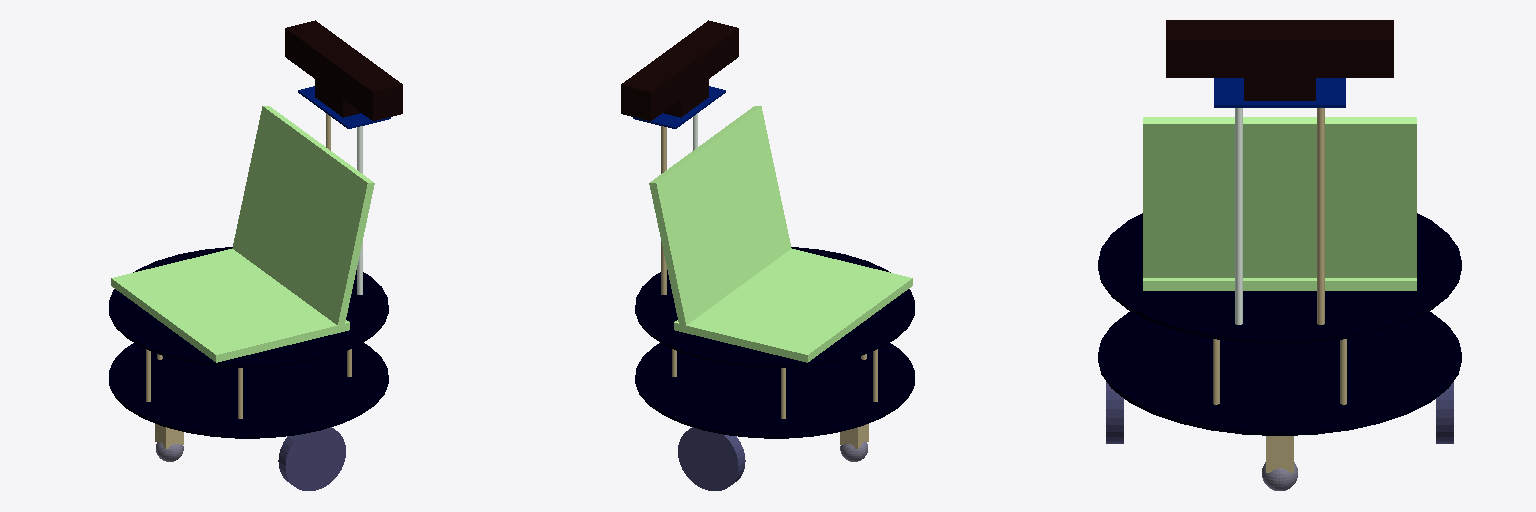
The robot description file, URDF, robot "tp_robot":
<?xml version="1.0"?>
	<robot name = "tp_robot">
		<link name = "base_underneath" >
			<visual>
				<geometry>
					<cylinder length="0.005" radius="0.2" />
				</geometry>
				<material name = "black">
					<color rgba = "0 0 0.118 1" />
				</material>
			</visual>	
		</link>
		
		<link name = "base_up_robot">
			<visual>
				<geometry>
					<cylinder length="0.005" radius="0.2" />
				</geometry>
				<material name = "black"/>
			</visual>
		</link>
		
		<link name = "base_laser">
			<visual>
				<geometry>
					<box size="0.05 0.25 0.046" />
				</geometry>
				<material name = "blackest">
					<color rgba = "0.12 0.05 0.05 1" />
				</material>
			</visual>
			<!--collision>
				<geometry>
					<box size="0.2 0.04 0.024" />
				</geometry>
			</collision-->
			<inertial>
	      	<mass value="0.0001" />
	     	 	<origin xyz="0 0 0" />
	      	<inertia ixx="0.0001" ixy="0.0" ixz="0.0"
		       			iyy="0.0001" iyz="0.0" 
		       			izz="0.0001" />
	  		</inertial>
		</link>
		
		<link name = "bott_kinect">
			<visual>
				<geometry>
					<box size="0.05 0.08 0.03" />
				</geometry>
				<material name = "blackest">
					<color rgba = "0.12 0.05 0.05 1" />
				</material>
			</visual>
		</link>
		
		<link name = "rect_bott">
			<visual>
				<geometry>
					<box size="0.07 0.145 0.003" />
				</geometry>
				<material name = "blue">
					<color rgba = "0.0118 0.1373 0.4863 1" />
				</material>
			</visual>
		</link>
		
		<link name = "left_wheel">
			<visual>
				<geometry>
					<cylinder length = "0.02" radius = "0.05" />
				</geometry>
				<origin rpy = "0 1.5708 1.5708" xyz = "0 0 0" />
				<material name = "blue_dark">
					<color rgba="0.3333 0.3333 0.498 1"/>
				</material>
			</visual>		
		</link>
		
		
		<link name = "right_wheel" >
			<visual>
				<geometry>
					<cylinder length = "0.02" radius = "0.05" />
				</geometry>
				<origin rpy = "0 1.5708 1.5708" xyz = "0 0 0" />
				<material name = "blue_dark"/>
			</visual>
		</link>
		
		<link name = "wheel_front_of">
			<visual>
				<geometry>
					<sphere radius="0.02" />
				</geometry>
				<material name = "blue_white">
					<color rgba = "0.5333 0.525 0.6 1"/>
				</material>
			</visual>
		</link>
		
		<link name = "wheel_behind">
			<visual>
				<geometry>
					<sphere radius="0.02" />
				</geometry>
				<material name = "blue_white">
					<color rgba = "0.5333 0.525 0.6 1"/>
				</material>
			</visual>
		</link>
		
		<!--*******************************************************-->
		
		<link name = "ver_laser_left">
			<visual>
				<geometry>
					<cylinder length="0.282" radius="0.004" />
				</geometry>
				<material name = "white_gray">
					<color rgba="0.808 0.749 0.569 1"/>
				</material>
			</visual>
		</link>
		
		<link name = "ver_laser_right">
			<visual>
				<geometry>
					<cylinder length="0.282" radius="0.004" />
				</geometry>
				<material name = "white_gray">
					<color rgba = "0.95 1 0.95 1" />
				</material>
			</visual>
		</link>
		
		
		<link name = "ver1">
			<visual>
				<geometry>
					<cylinder length="0.111" radius="0.004" />
				</geometry>
				<material name = "white_gray"/>
			</visual>
		</link>
		
		<link name = "ver2">
			<visual>
				<geometry>
					<cylinder length="0.111" radius="0.004" />
				</geometry>
				<material name = "white_gray"/>
			</visual>
		</link>
		
		<link name = "ver3">
			<visual>
				<geometry>
					<cylinder length="0.111" radius="0.004" />
				</geometry>
				<material name = "white_gray"/>
			</visual>
		</link>
		
		<link name = "ver4">
			<visual>
				<geometry>
					<cylinder length="0.111" radius="0.004" />
				</geometry>
				<material name = "white_gray"/>
			</visual>
		</link>
		
		<link name = "ver5">
			<visual>
				<geometry>
					<cylinder length="0.111" radius="0.004" />
				</geometry>
				<material name = "white_gray"/>
			</visual>
		</link>
		
		<link name = "wheel_bar_front_of">
			<visual>
				<geometry>
					<box size="0.03 0.03 0.0721" />
				</geometry>
				<material name = "white_gray"/>
			</visual>
		</link>
		
		<link name = "wheel_bar_behind">
			<visual>
				<geometry>
					<box size="0.03 0.03 0.0721" />
				</geometry>
				<material name = "white_gray"/>
			</visual>
		</link>
		<!--*******************************************************-->
		
		<link name = "base_laptop">
			<visual>
				<geometry>
					<box size="0.22 0.3 0.012" />
				</geometry>
				<material name = "green">
					<color rgba="0.761 1 0.648 1"/>
				</material>
			</visual>
		</link>
		
		<link name = "screen_laptop">
			<visual>
				<geometry>
					<box size="0.22 0.3 0.012" />
				</geometry>
				<origin rpy = "0 1.8 0" xyz = "0 0 0" />
				<material name = "green"/>
			</visual>
		</link>
		
		<!--*******************************************************-->
		<!-- joints the elements-->
		<joint name = "base_to_laser" type = "fixed">
			<parent link = "base_underneath" />
			<child link = "base_laser" />
			<origin rpy = "0 0 0" xyz = "0.157 0 0.446" />
		</joint>
		
		<joint name = "base_to_ver_left" type = "fixed">
			<parent link = "base_underneath" />
			<child link = "ver_laser_left" />
			<origin rpy = "0 0 0" xyz = "0.157 0.045 0.252" />
		</joint>
		
		<joint name = "base_to_ver_right" type = "fixed">
			<parent link = "base_underneath" />
			<child link = "ver_laser_right" />
			<origin rpy = "0 0 0" xyz = "0.157 -0.045 0.252" />
		</joint>
		
		<joint name = "base_to_base_up" type = "fixed">
			<parent link = "base_underneath" />
			<child link = "base_up_robot" />
			<origin rpy = "0 0 0" xyz = "0 0 0.111" />
		</joint>
		
		<joint name = "base_to_left_wheel" type = "fixed">
			<parent link = "base_underneath" />
			<child link = "left_wheel" />
			<origin xyz = "0 -0.181 -0.05" />
		</joint>
		
		<joint name = "base_to_right_wheel" type = "fixed">
			<parent link = "base_underneath" />
			<child link = "right_wheel" />
			<origin xyz = "0 0.181 -0.05" />
		</joint>
		
		<joint name = "base_to_ver1" type = "fixed">
			<parent link = "base_underneath" />
			<child link = "ver1" />
			<origin xyz = "0.125 -0.07 0.0555" />
		</joint>
		
		<joint name = "base_to_ver2" type = "fixed">
			<parent link = "base_underneath" />
			<child link = "ver2" />
			<origin rpy = "0 0 0" xyz = "0.125 0.07 0.0555" />
		</joint>
		
		<joint name = "base_to_ver3" type = "fixed">
			<parent link = "base_underneath" />
			<child link = "ver3" />
			<origin rpy = "0 0 0" xyz = "-0.08 0.115 0.0555" />
		</joint>
		
		<joint name = "base_to_ver4" type = "fixed">
			<parent link = "base_underneath" />
			<child link = "ver4" />
			<origin rpy = "0 0 0" xyz = "-0.08 -0.115 0.0555" />
		</joint>
		
		<joint name = "base_to_ver5" type = "fixed">
			<parent link = "base_underneath" />
			<child link = "ver5" />
			<origin rpy = "0 0 0" xyz = "-0.165 0 0.0555" />
		</joint>
		
		<joint name = "base_to_wheel_bar_f" type = "fixed">
			<parent link = "base_underneath" />
			<child link = "wheel_bar_front_of" />
			<origin rpy = "0 0 0" xyz = "0.13 0 -0.03605" />
		</joint>
		
		<joint name = "base_to_wheel_bar_b" type = "fixed">
			<parent link = "base_underneath" />
			<child link = "wheel_bar_behind" />
			<origin rpy = "0 0 0" xyz = "-0.13 0 -0.03605" />
		</joint>
		
		<joint name = "base_to_wheel_b" type = "fixed">
			<parent link = "base_underneath" />
			<child link = "wheel_behind" />
			<origin rpy = "0 0 0" xyz = "-0.13 0 -0.08" />
		</joint>
		
		<joint name = "base_to_wheel_f" type = "fixed">
			<parent link = "base_underneath" />
			<child link = "wheel_front_of" />
			<origin rpy = "0 0 0" xyz = "0.13 0 -0.08" />
		</joint>
		
		<joint name = "base_to_base_lap" type = "fixed">
			<parent link = "base_underneath" />
			<child link = "base_laptop" />
			<origin rpy = "0 0 0" xyz = "-0.03 0 0.123" />
		</joint>
		
		<joint name = "base_laptop_to_screen" type = "fixed">
			<parent link = "base_laptop" />
			<child link = "screen_laptop" />
			<origin xyz = "0.12 0 0.11" />
		</joint>
		
		<joint name = "kinect_to_bott" type = "fixed">
			<parent link = "base_laser" />
			<child link = "bott_kinect" />
			<origin xyz = "0 0 -0.038" />
		</joint>
		
		<joint name = "base_to_rect_bott" type = "fixed">
			<parent link = "base_underneath" />
			<child link = "rect_bott" />
			<origin xyz = "0.157 0 0.393" />
		</joint>
	</robot>

--- Facts derived from the render (not from the file) ---
3 views of the same robot in one strip: view 1: azimuth 30°, elevation 25°; view 2: azimuth 150°, elevation 25°; view 3: azimuth 270°, elevation 25° (orthographic).
Robot: tp_robot — 20 links, 19 joints (19 fixed); root link base_underneath; default pose: all joints at 0.
Visible links, largest first — view 1: screen_laptop, base_underneath, base_laptop, base_up_robot, base_laser, left_wheel, rect_bott, bott_kinect; view 2: screen_laptop, base_underneath, base_laptop, base_up_robot, base_laser, right_wheel, rect_bott, bott_kinect; view 3: screen_laptop, base_underneath, base_up_robot, base_laser, base_laptop, rect_bott, ver_laser_left, ver_laser_right, bott_kinect, wheel_bar_front_of, left_wheel, right_wheel (+1 smaller).
Link boxes in pixels (x1,y1,x2,y2): screen_laptop: (232, 106, 374, 326); base_underneath: (109, 343, 388, 438); base_laptop: (111, 249, 349, 362); base_up_robot: (109, 247, 388, 367); base_laser: (285, 20, 402, 120); left_wheel: (278, 427, 345, 490); rect_bott: (298, 86, 390, 128); bott_kinect: (315, 79, 360, 117); screen_laptop: (649, 106, 791, 326); base_underneath: (635, 343, 914, 438); base_laptop: (674, 249, 912, 362); base_up_robot: (635, 247, 914, 367); base_laser: (621, 20, 738, 120); right_wheel: (678, 427, 745, 490); rect_bott: (633, 86, 725, 128); bott_kinect: (663, 79, 708, 117); screen_laptop: (1143, 117, 1416, 277); base_underneath: (1098, 311, 1461, 435); base_up_robot: (1098, 213, 1461, 344); base_laser: (1166, 20, 1393, 77); base_laptop: (1143, 278, 1416, 290); rect_bott: (1214, 78, 1345, 107); ver_laser_left: (1317, 108, 1324, 324); ver_laser_right: (1235, 108, 1242, 324); bott_kinect: (1244, 78, 1315, 100); wheel_bar_front_of: (1266, 436, 1293, 472); left_wheel: (1106, 382, 1123, 443); right_wheel: (1436, 382, 1453, 443).
Size in the robot's own frame: 0.4 by 0.4 by 0.569 metres.
Geometry: primitives only (box / cylinder / sphere), no mesh files.